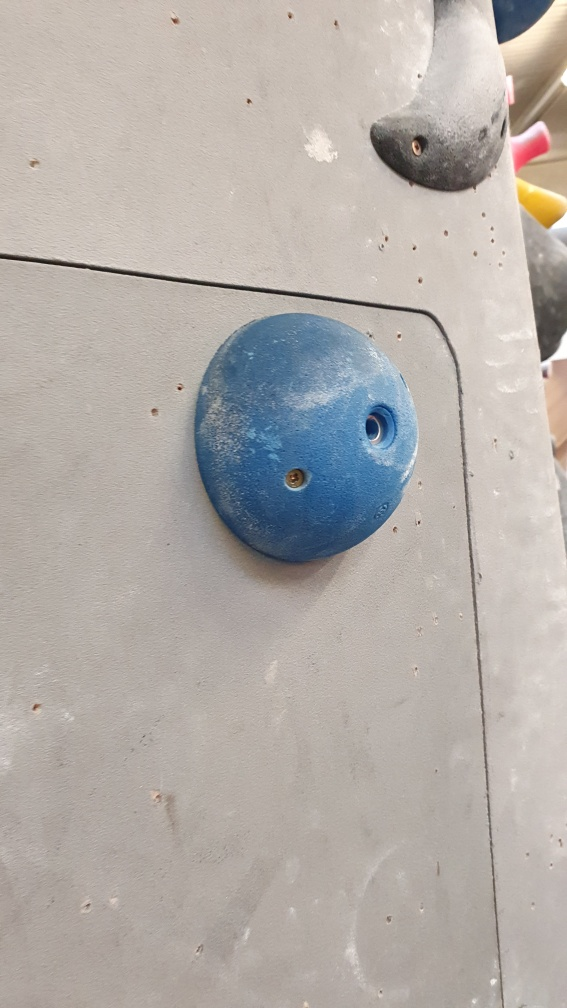Sloper: (192, 307, 424, 572)
